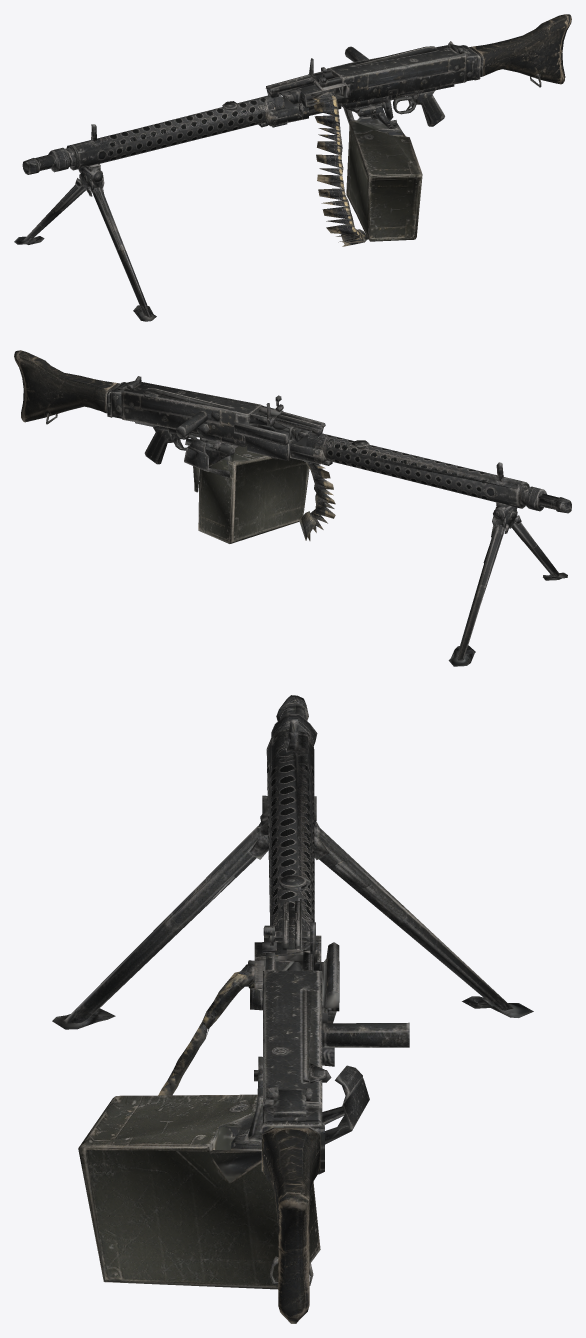
File: Meshy_AI_model.fbx
3 renders of one model, top to bottom at view 1: azimuth 30°, elevation 25°; view 2: azimuth 150°, elevation 25°; view 3: azimuth 270°, elevation 25°, orthographic. The views are drawn at different scales.
Parts seen in each view (by area): view 1: Mesh_0; view 2: Mesh_0; view 3: Mesh_0.
Boxes of the visible parts, x1,y1,x2,y2 form: Mesh_0: (14,14,571,321); Mesh_0: (14,350,571,666); Mesh_0: (52,695,533,1323).
Bounding box in the file's own units: 95.75 × 27.05 × 36.72.
Materials: 1 (1 with a texture image).
